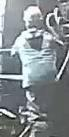helmet: (23, 5, 43, 22)
vest: (15, 29, 59, 91)
